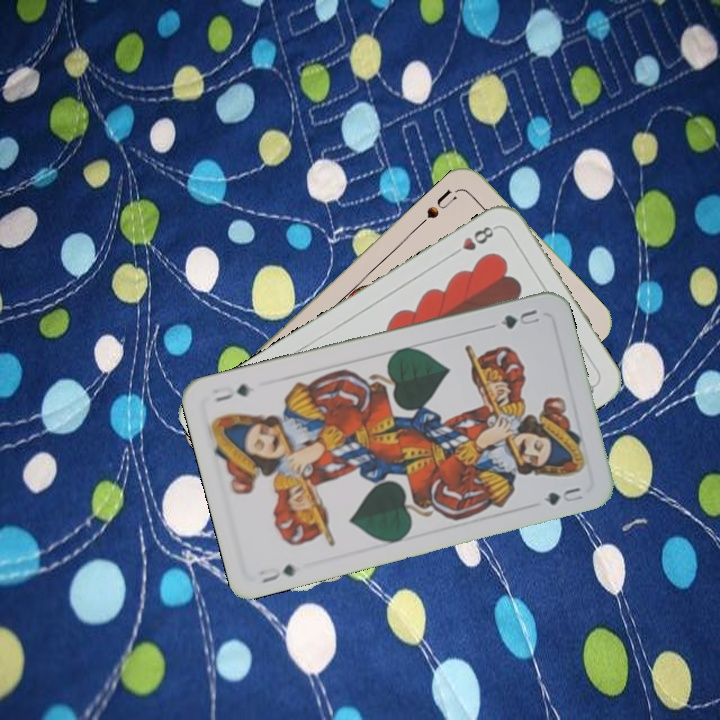GU: (487, 305, 543, 331), (257, 560, 299, 586)
H8: (447, 222, 500, 260)
SU: (415, 186, 460, 229)
